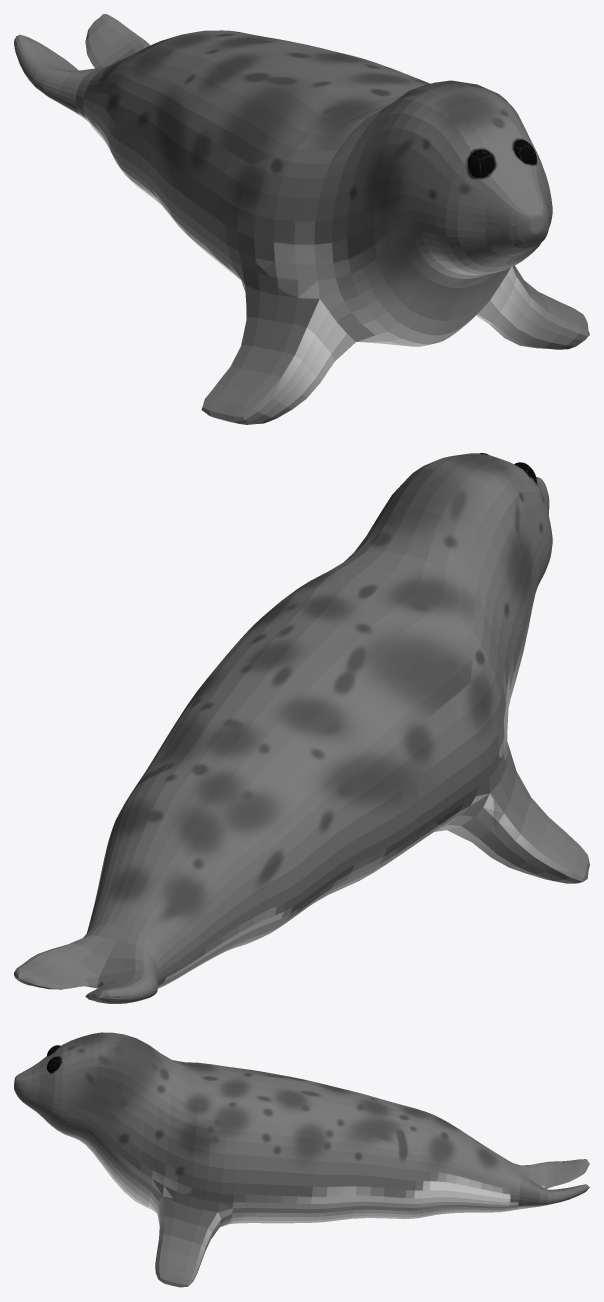
Rendered from Tokkari Seal.fbx.
The picture shows the model from 3 angles, top to bottom: view 1: azimuth 30°, elevation 25°; view 2: azimuth 150°, elevation 25°; view 3: azimuth 270°, elevation 25°; orthographic projection. The views are drawn at different scales.
Parts seen in each view (by area): view 1: Seal dup; view 2: Seal dup; view 3: Seal dup.
Part boxes in pixels (<box>): Seal dup: <box>14,14,589,424</box>; Seal dup: <box>14,453,589,1003</box>; Seal dup: <box>14,1032,589,1287</box>.
Bounding box in the file's own units: 30.61 × 25.18 × 66.4.
